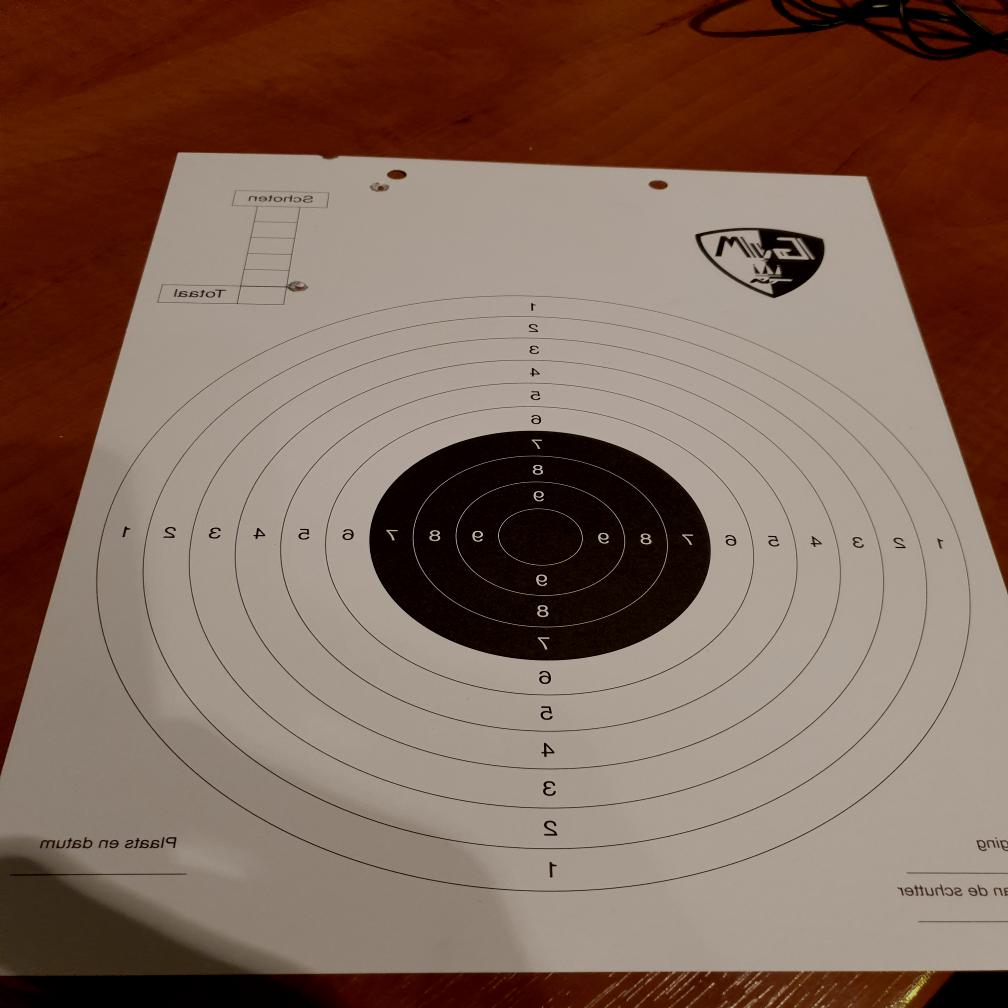0: (284, 278, 311, 292), (368, 180, 392, 195), (320, 155, 338, 160)
Target: (92, 293, 976, 894)
black_contour: (370, 430, 712, 661)
